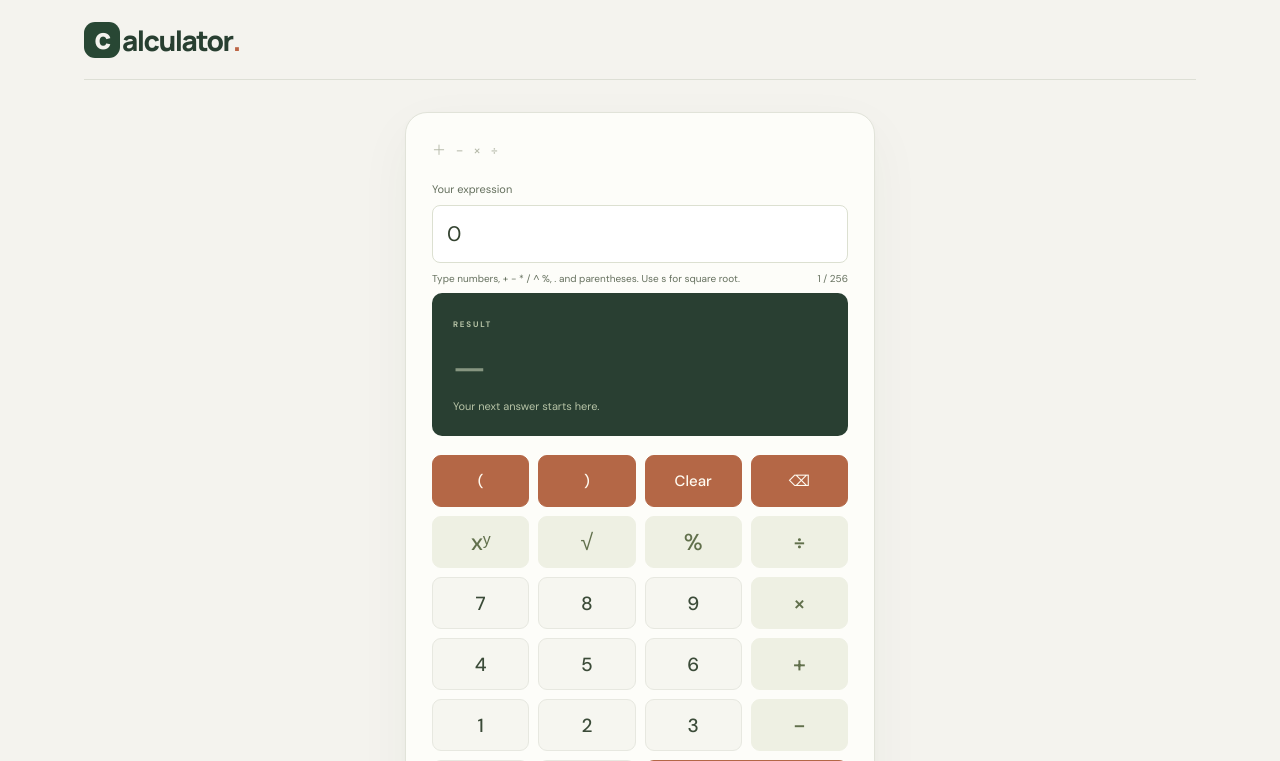
Test case: calculator form › handles the initial and cleared zero with the Close parenthesis keypad key
Click the button named "Close parenthesis" at (587, 481), box [538,455,636,507]
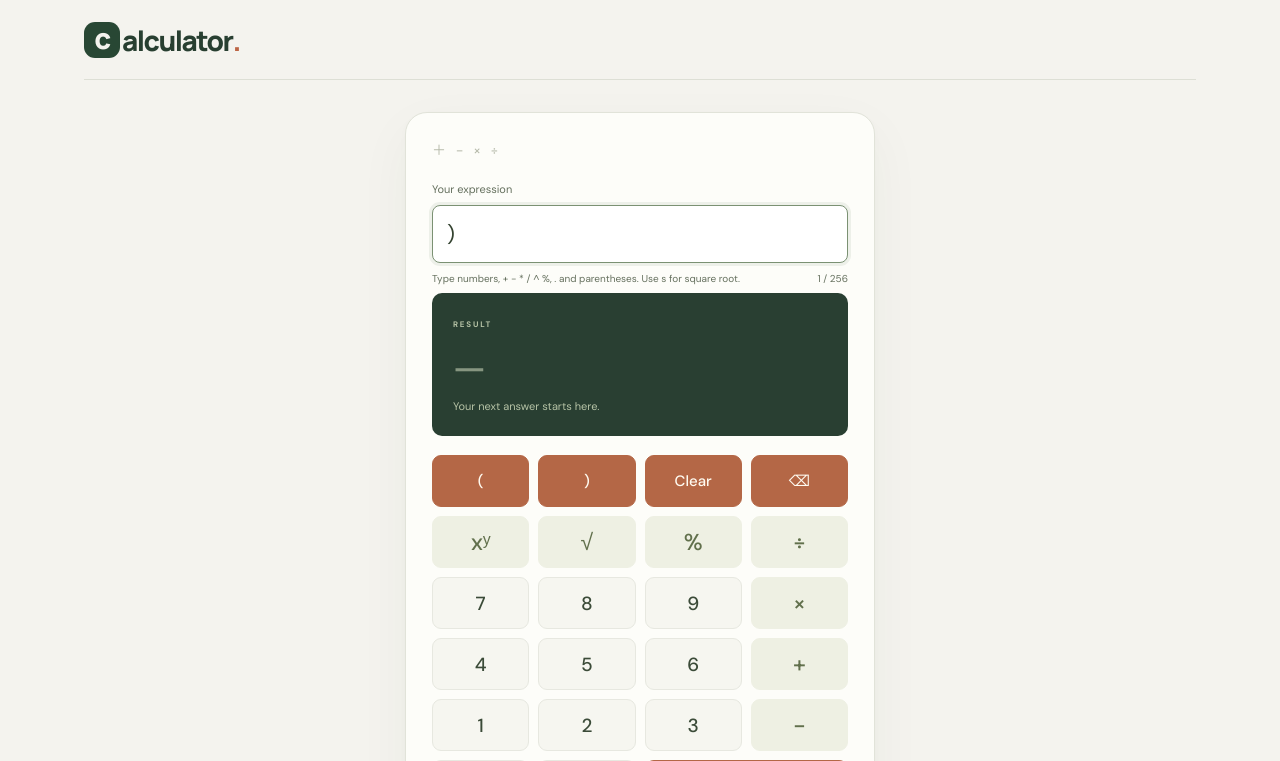
Result: the field labelled "Your expression" holds ")" at [432,205,848,263]
Click the button "Clear" at (693, 481), box [644,455,742,507]
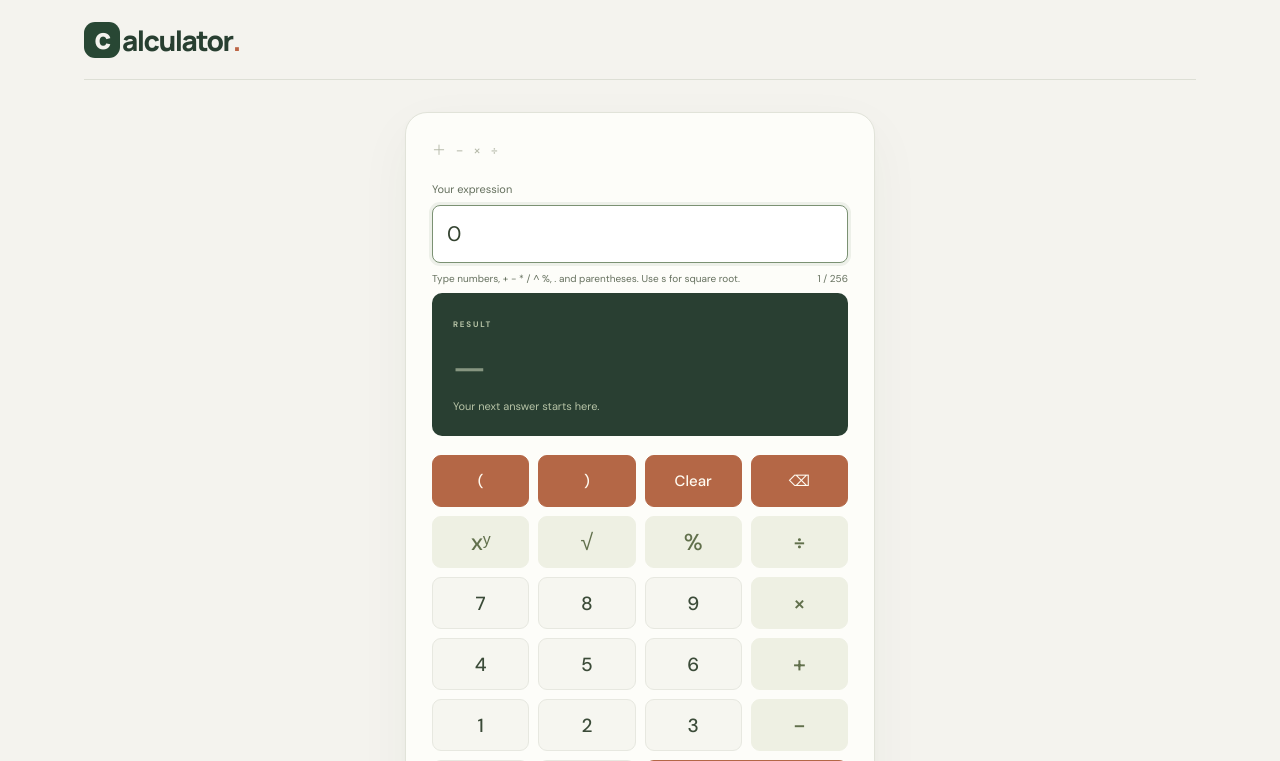
Click the button named "Close parenthesis" at (587, 481), box [538,455,636,507]
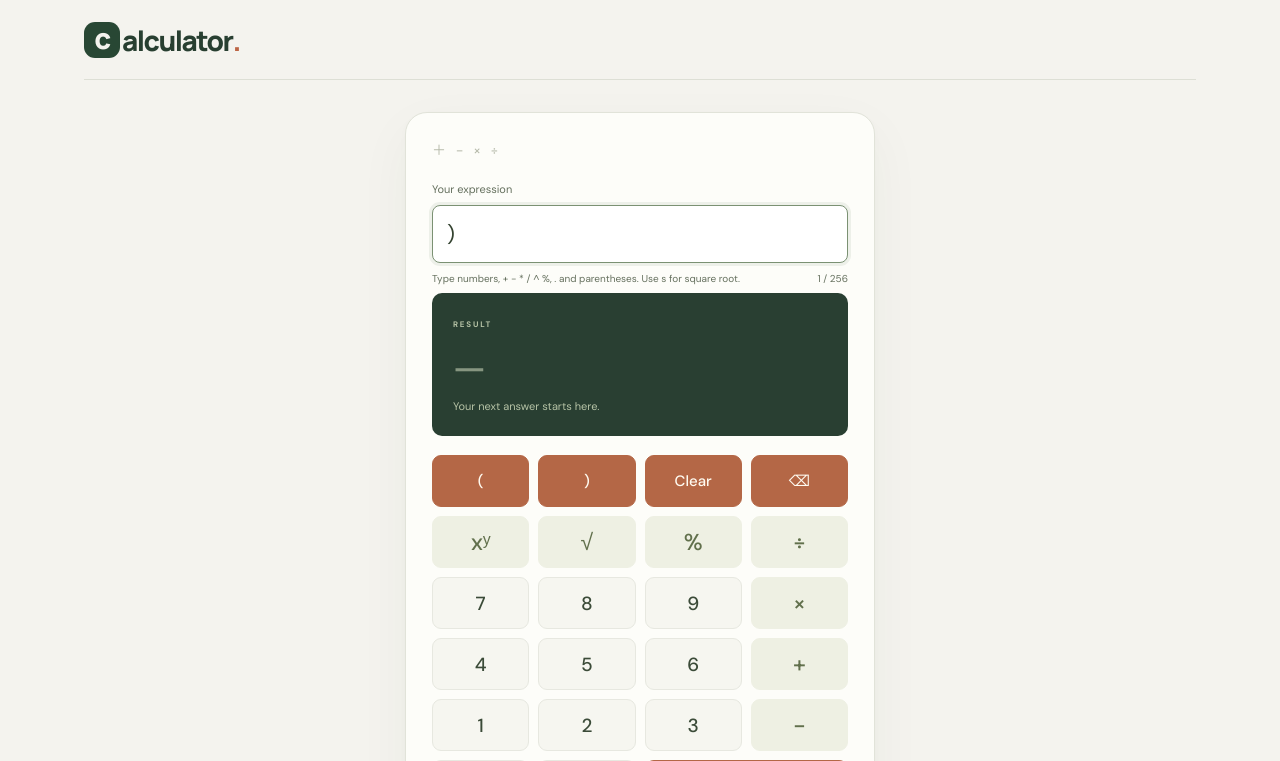
Result: the field labelled "Your expression" holds ")" at [432,205,848,263]
